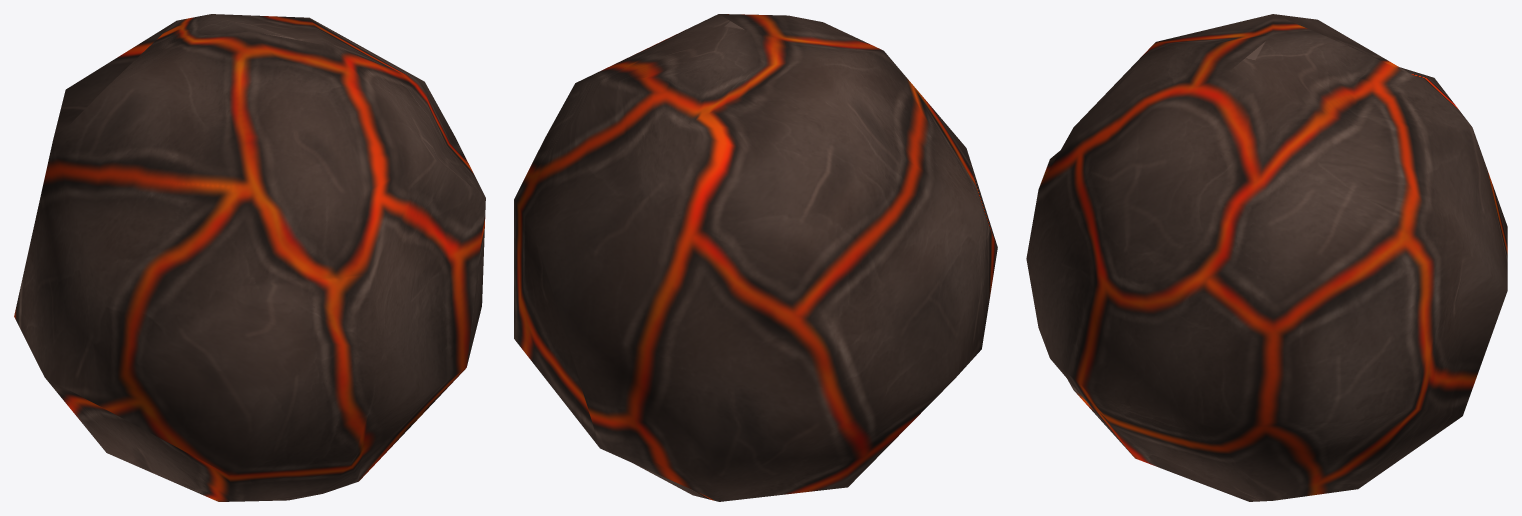
File: Fireball (Low Quality).FBX
The picture shows the model from 3 angles, left to right: view 1: azimuth 30°, elevation 25°; view 2: azimuth 150°, elevation 25°; view 3: azimuth 270°, elevation 25°; orthographic projection.
Visible parts, largest first — view 1: Fireball; view 2: Fireball; view 3: Fireball.
Boxes of the visible parts, bbox=[...] form: Fireball: bbox=[14, 14, 485, 501]; Fireball: bbox=[514, 14, 997, 501]; Fireball: bbox=[1026, 14, 1507, 501].
Bounding box in the file's own units: 29.74 × 31.27 × 30.5.
1 material, 1 textured.
